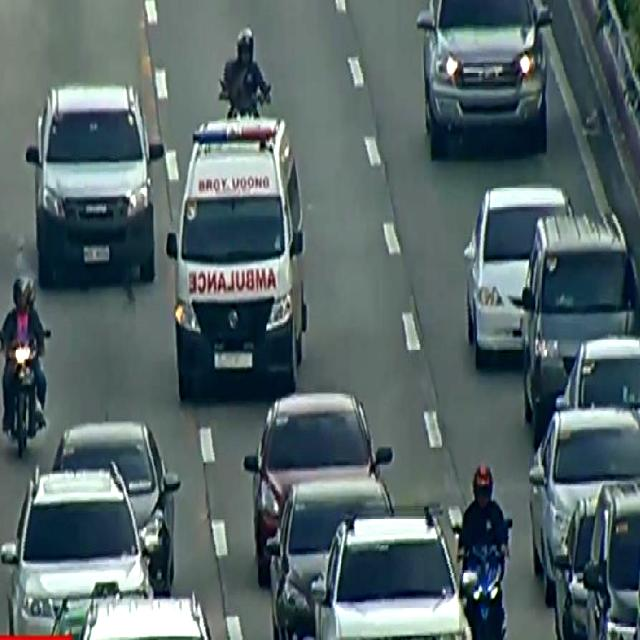emergency: (164, 102, 311, 401)
